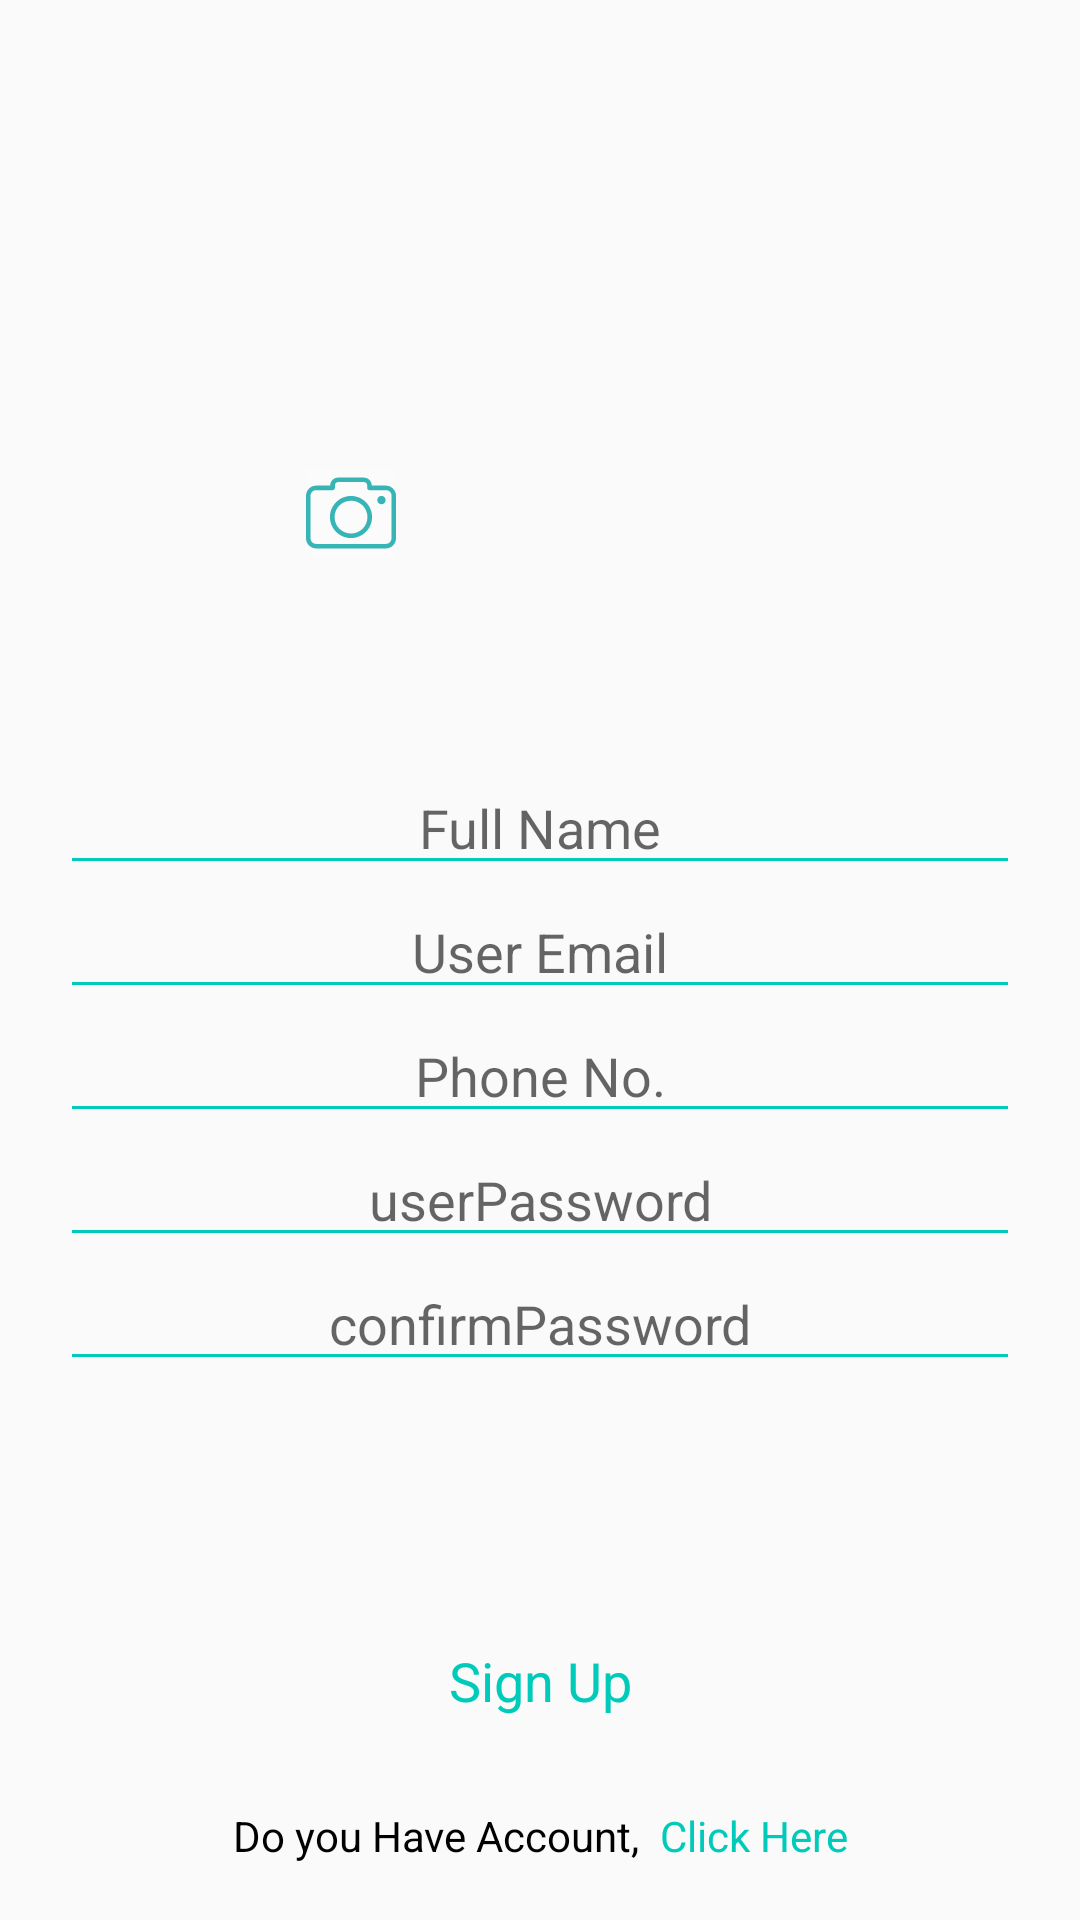

Point at icon controls on the screen. Image size 1080px x 1920px, points as point (x, y).
camera: point (351, 513)
